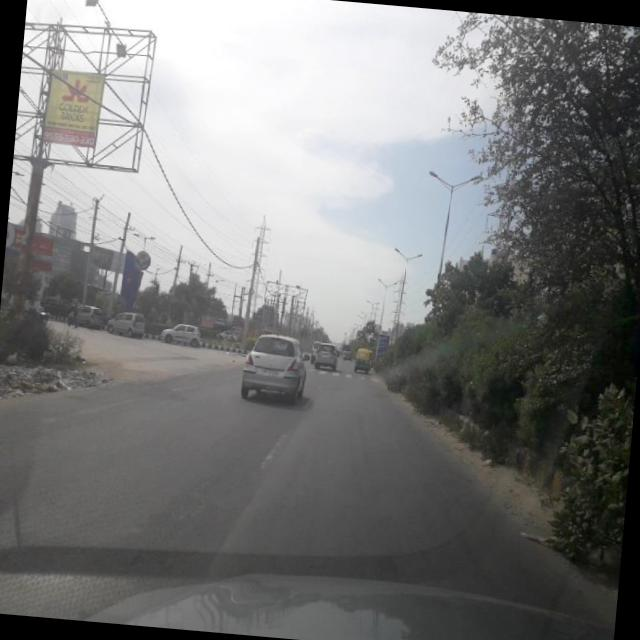crack: (0, 402, 536, 595)
